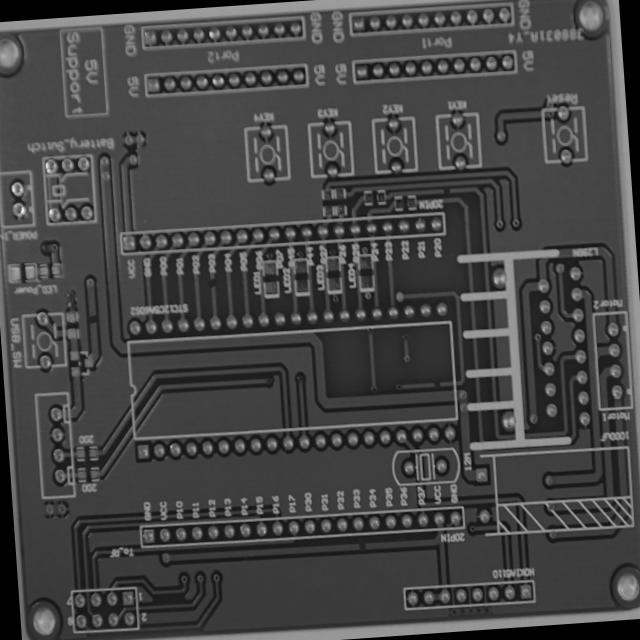open_circuit: (87, 310, 98, 328), (207, 276, 218, 291), (356, 539, 368, 551), (430, 378, 442, 389), (441, 186, 452, 194)
